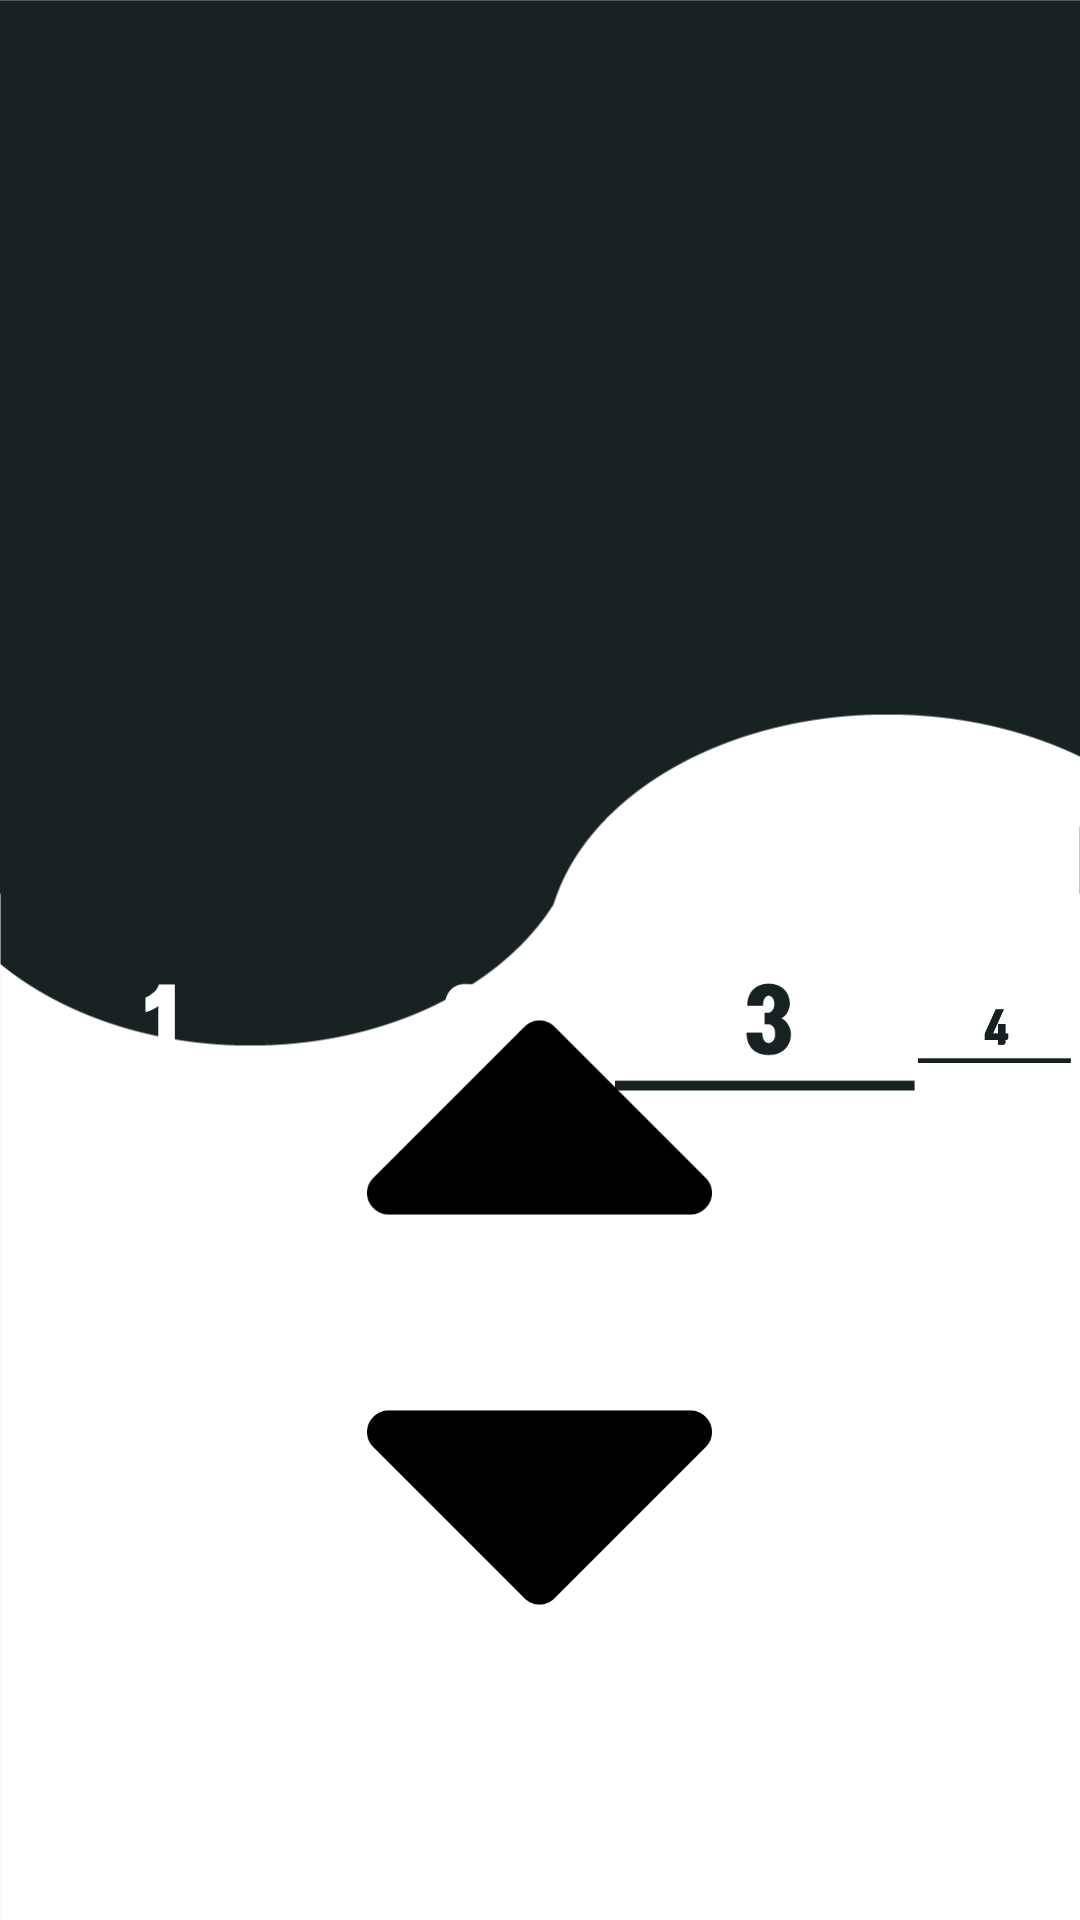

Locate icon controls on the screen. Image size 1080x1920, boxes as (x1, y1, x2, y2).
sort down: (367, 1410, 712, 1605)
